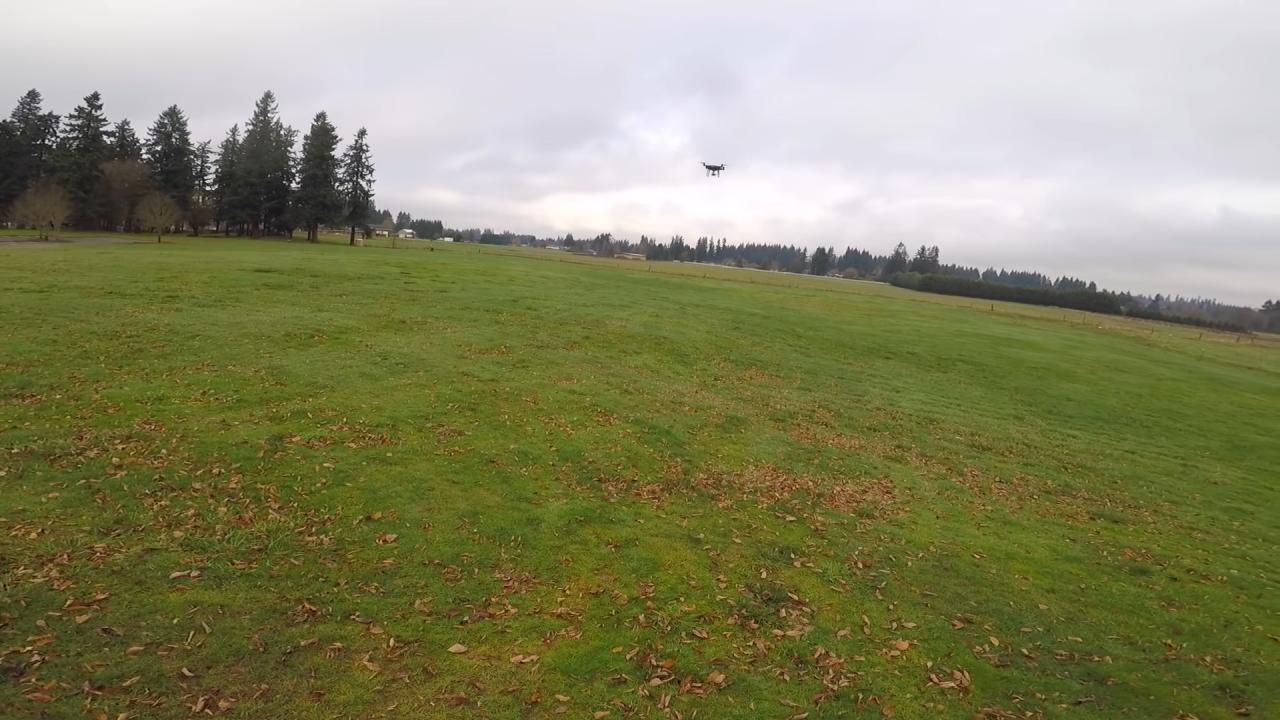Drone: (694, 152, 732, 184)
